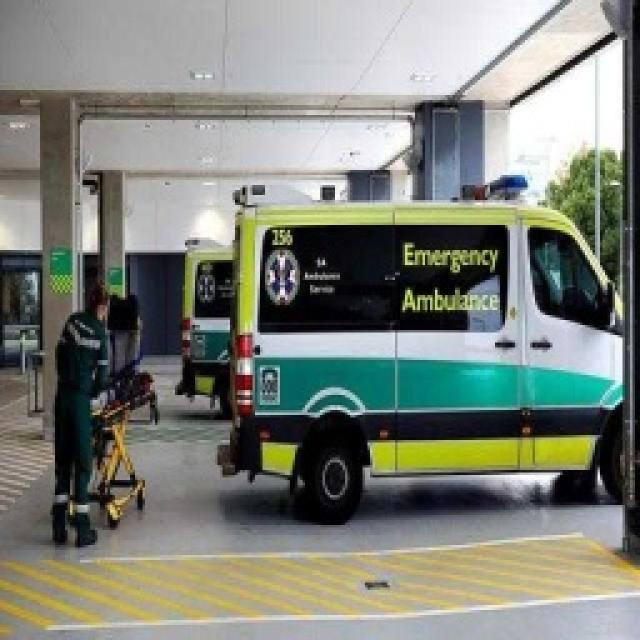emergency-vehicle: (225, 169, 625, 544), (168, 230, 238, 431)
